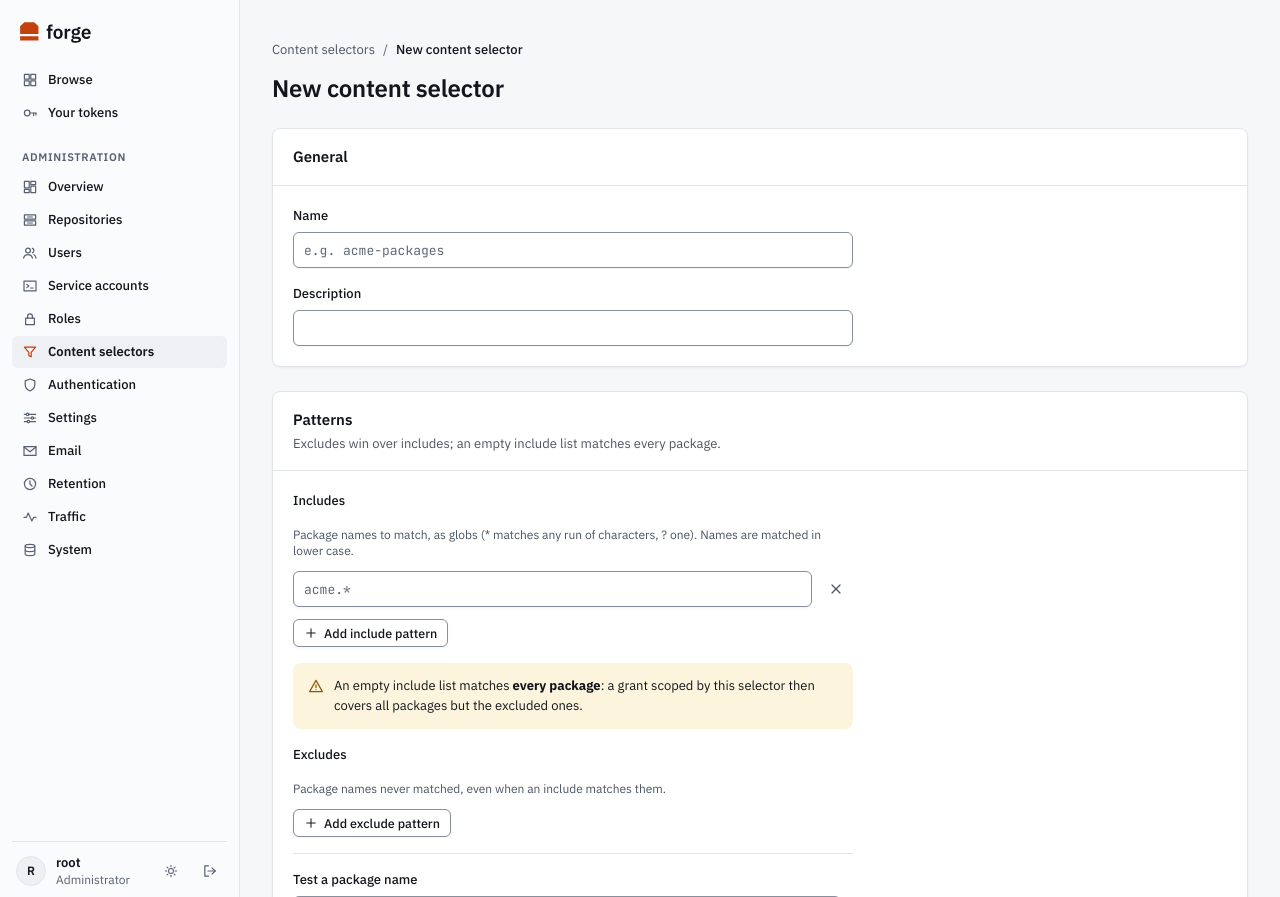
admin content selectors › shows an invalid pattern in the test box
This screenshot has width=1280, height=897.
// (`[ [` types one `[`.)
Step 1. Type "acme.[ [x" into the field named "Includes pattern 1" → (552, 589), box top-left (293, 571), bottom-right (812, 607)
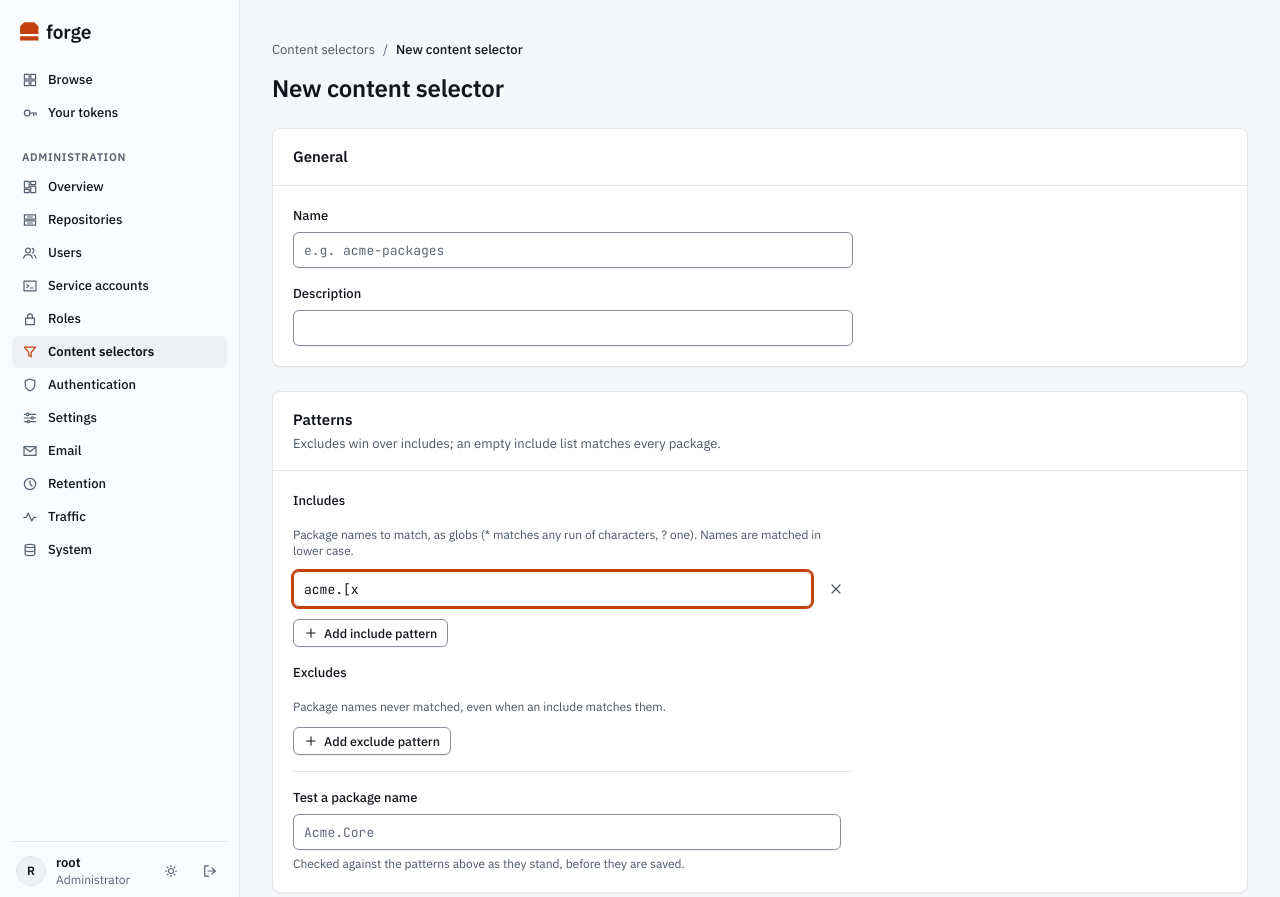
Step 2. Type "acme.x" into the field labelled "Test a package name" → (567, 832), box top-left (293, 814), bottom-right (841, 850)
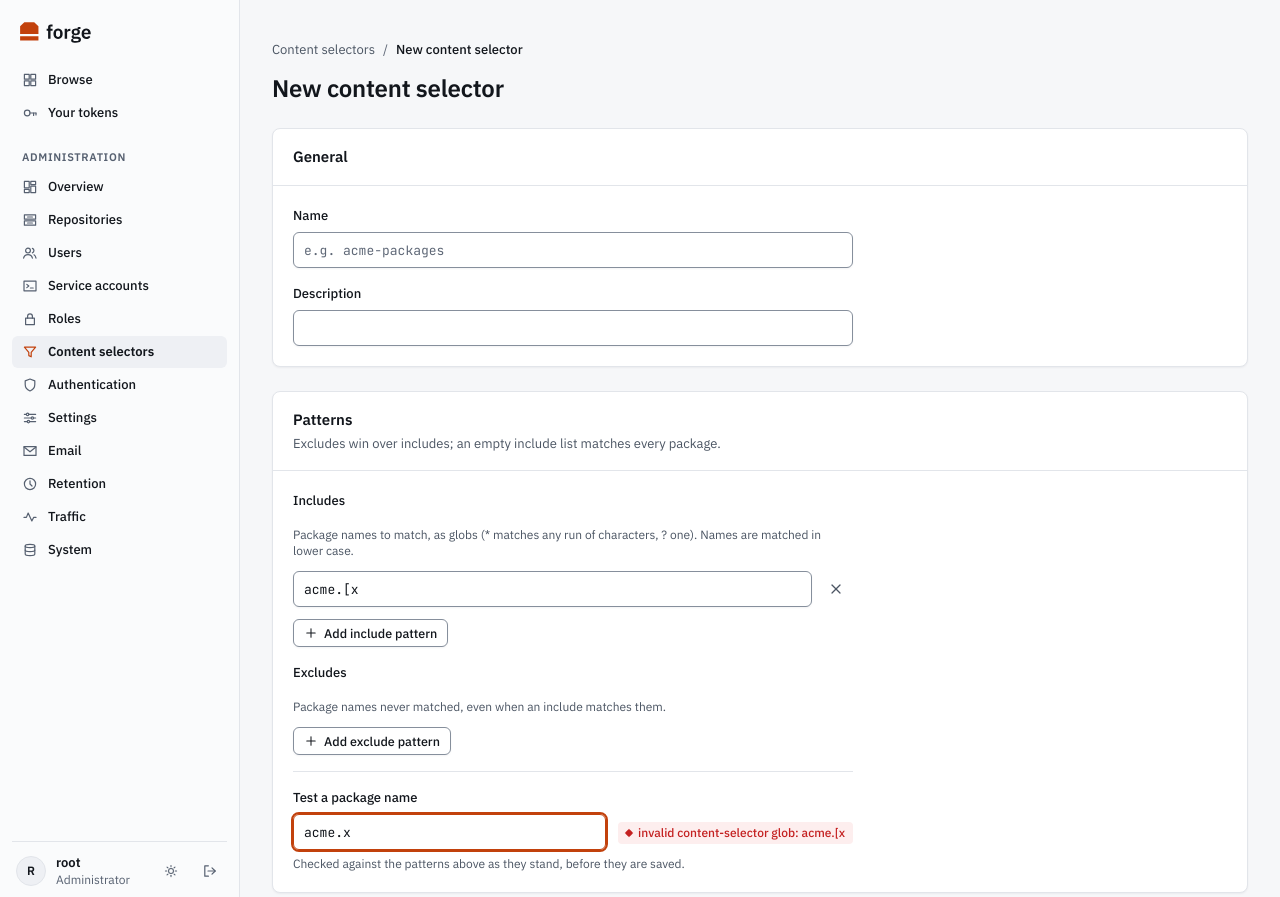
Now the text "invalid content-selector glob: acme.[x" is shown, box top-left (618, 822), bottom-right (853, 844)
